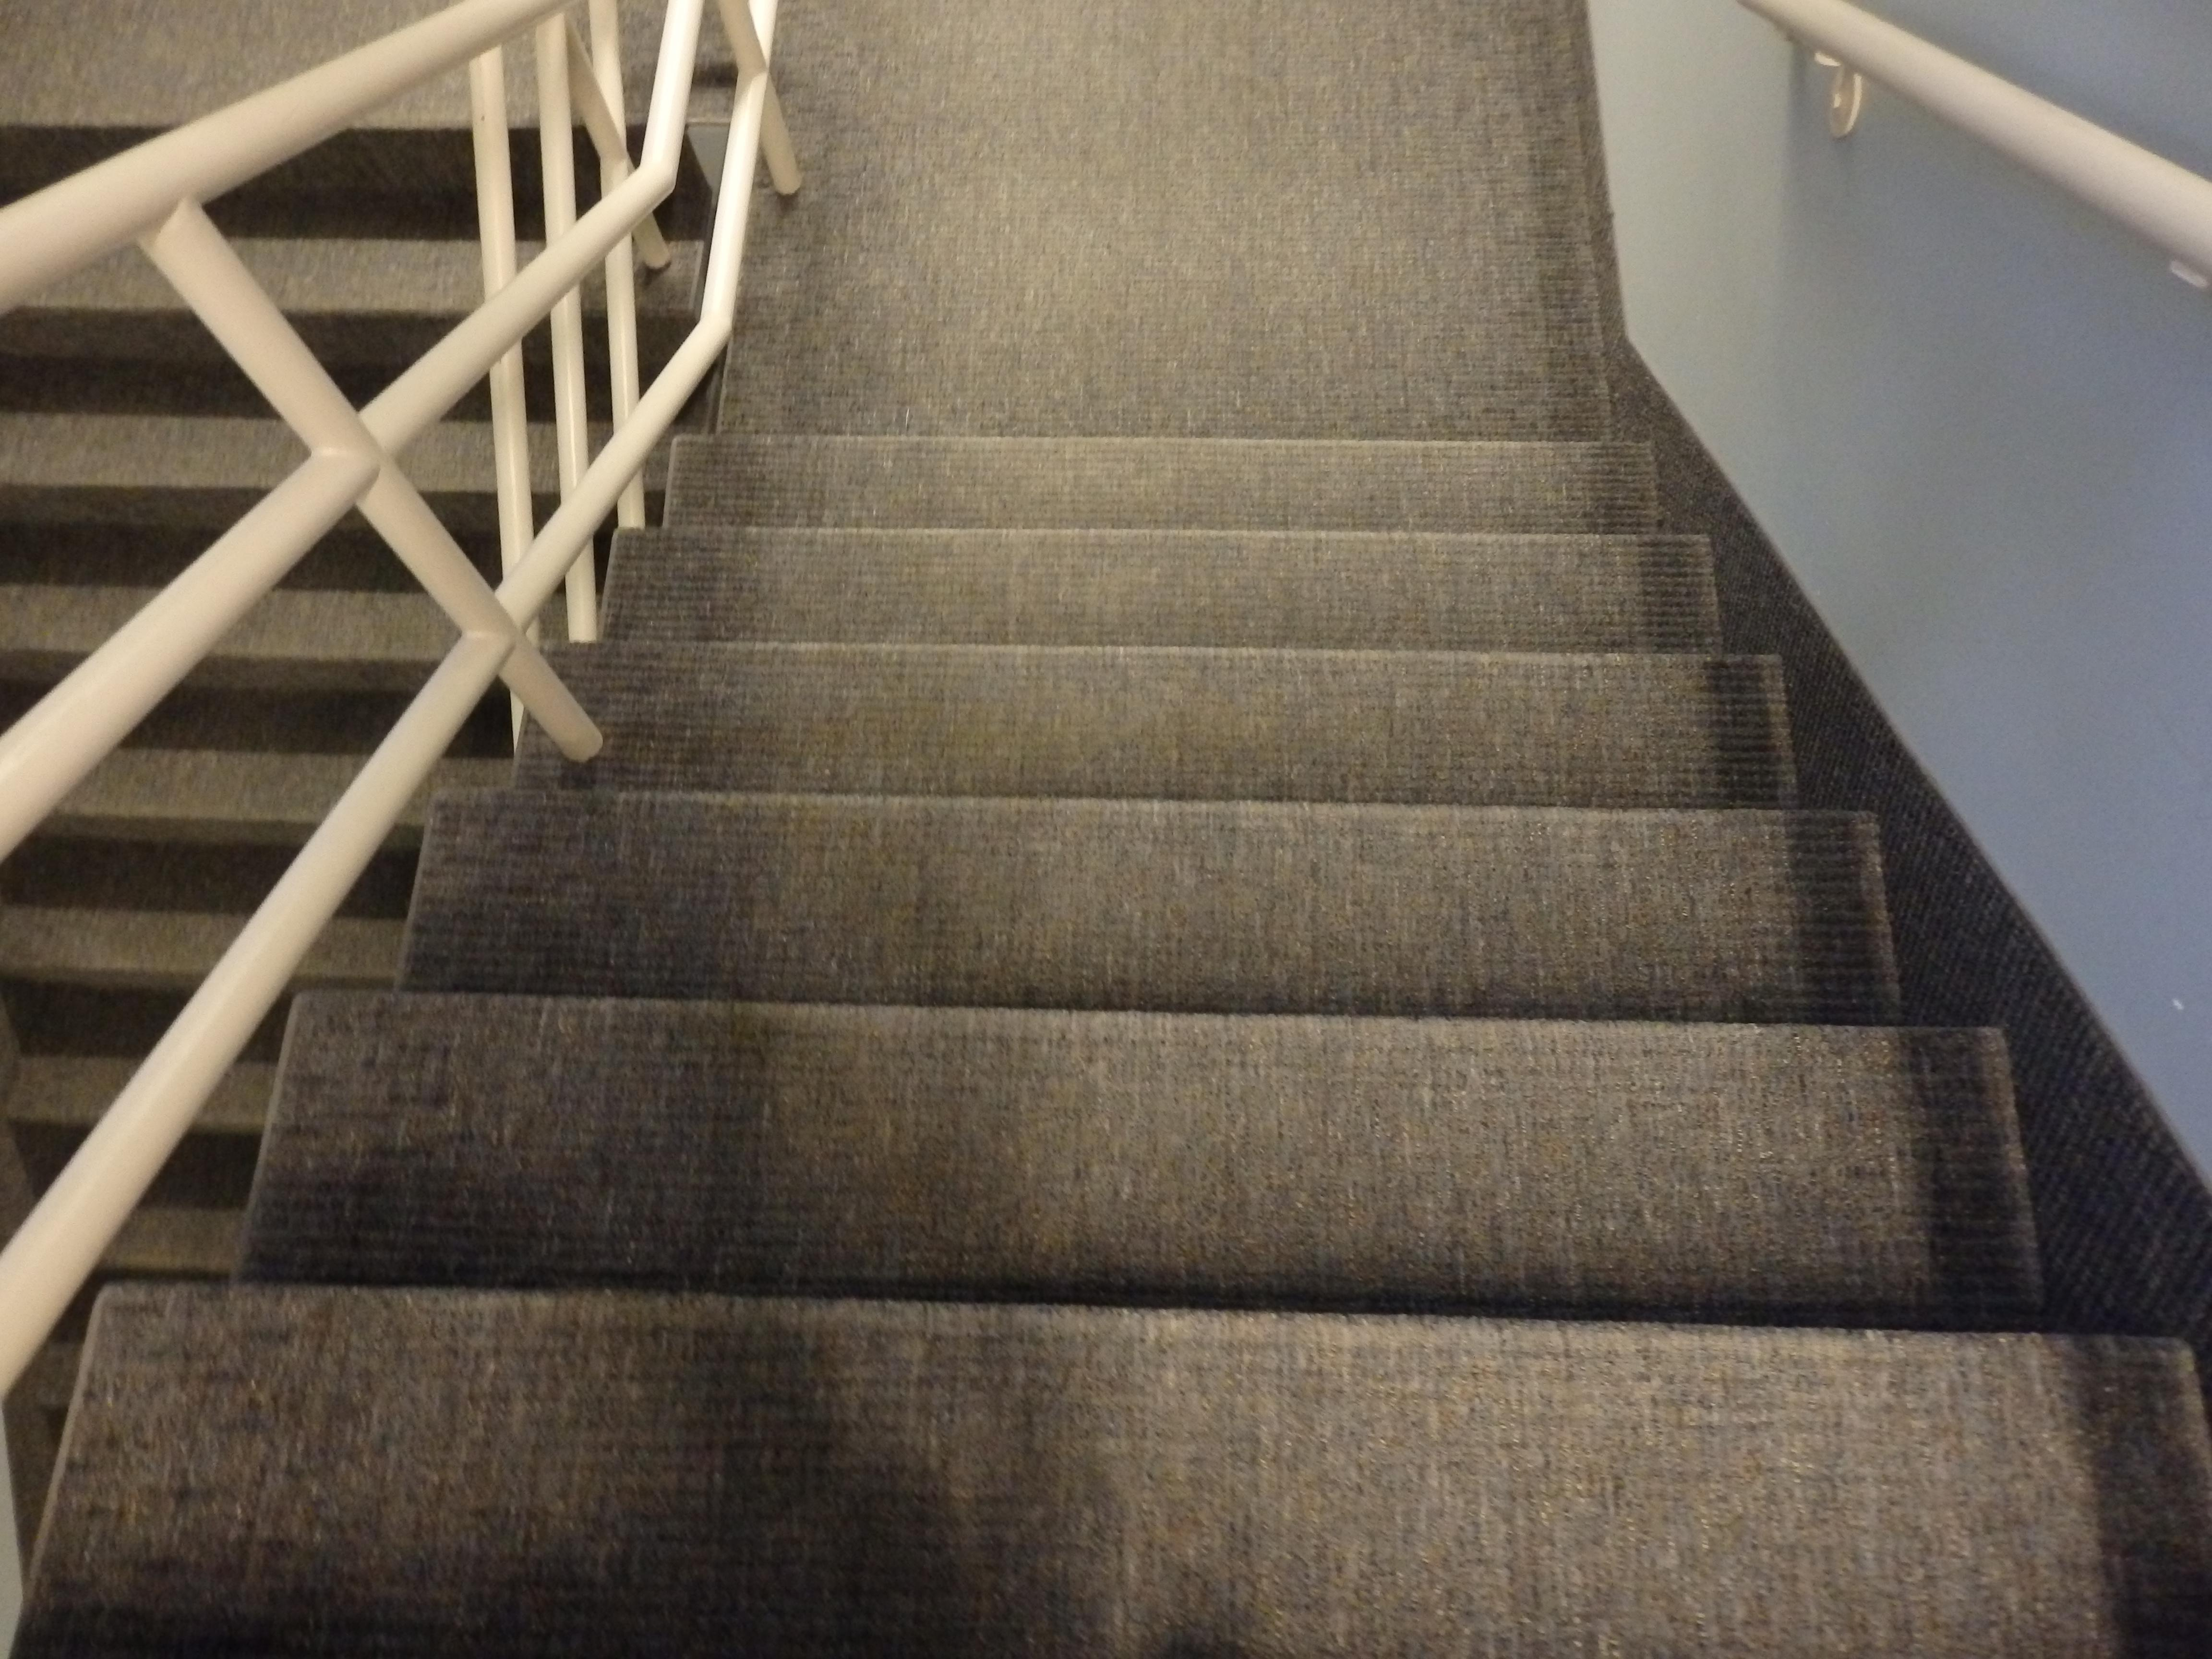stairs_down: (345, 422, 1961, 1537)
